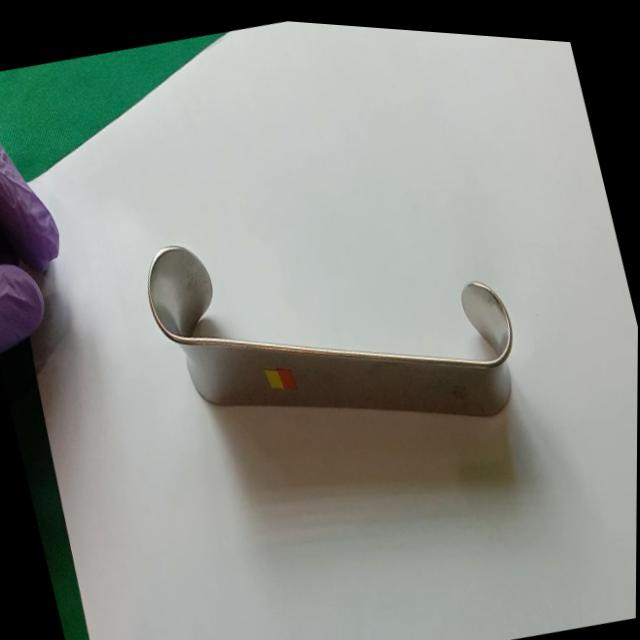CheekRetractor: (130, 151, 534, 489)
